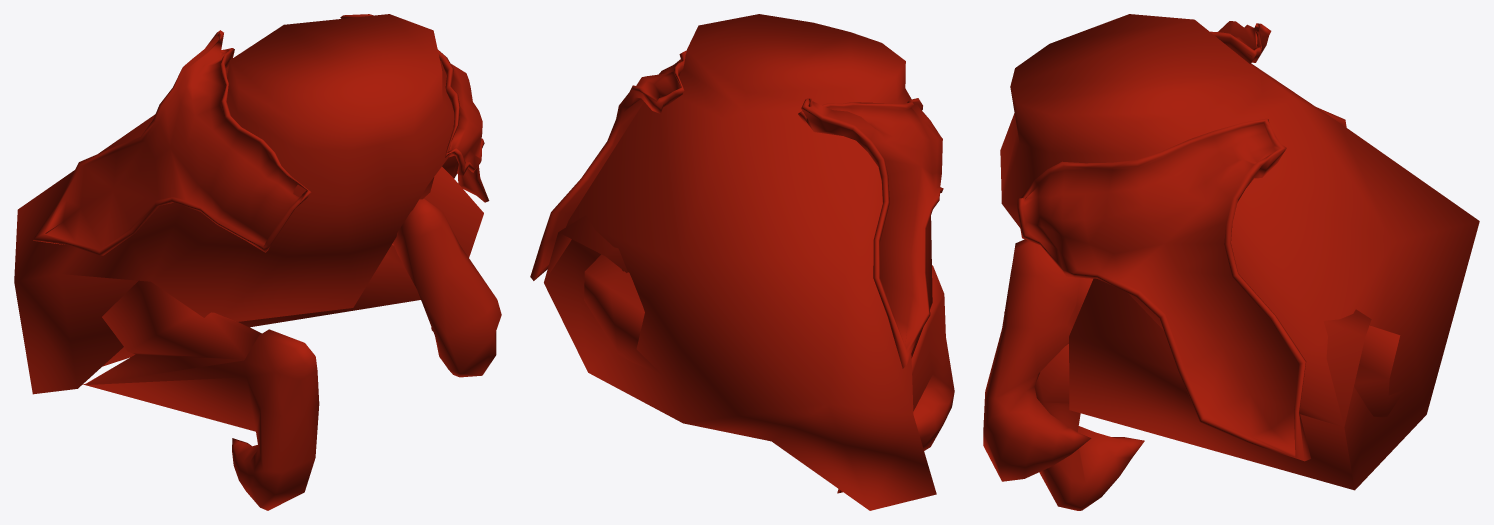
Rendered from bot_000049.obj.
The picture shows the model from 3 angles, left to right: view 1: azimuth 30°, elevation 25°; view 2: azimuth 150°, elevation 25°; view 3: azimuth 270°, elevation 25°; orthographic projection. The views are drawn at different scales.
Visible parts, largest first — view 1: LowPoly_Warlock.004_Plane.004; view 2: LowPoly_Warlock.004_Plane.004; view 3: LowPoly_Warlock.004_Plane.004.
Boxes of the visible parts, box(x1,y1,x2,y2) form: LowPoly_Warlock.004_Plane.004: box(14, 14, 501, 510); LowPoly_Warlock.004_Plane.004: box(530, 14, 954, 510); LowPoly_Warlock.004_Plane.004: box(983, 14, 1479, 510).
Size of the model in its own units: 0.7749 by 0.7266 by 0.6488.
